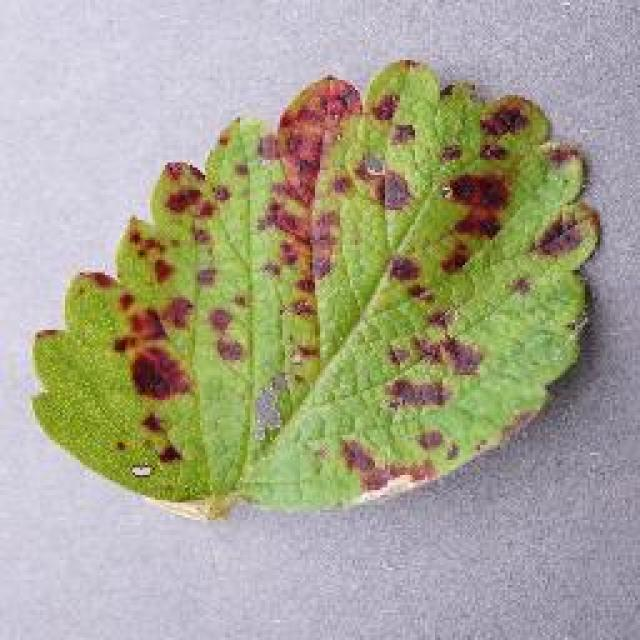Strawberry___Leaf_scorch: (95, 64, 593, 518)
